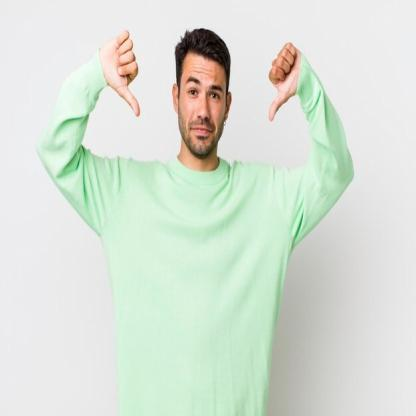thumb_down: (260, 30, 308, 126), (100, 24, 146, 119)
